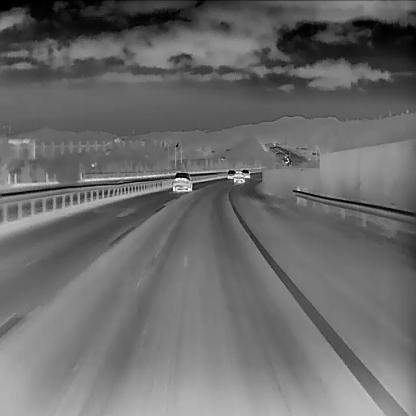car: (172, 171, 192, 191), (232, 169, 244, 181), (226, 167, 236, 179), (241, 167, 250, 178)
